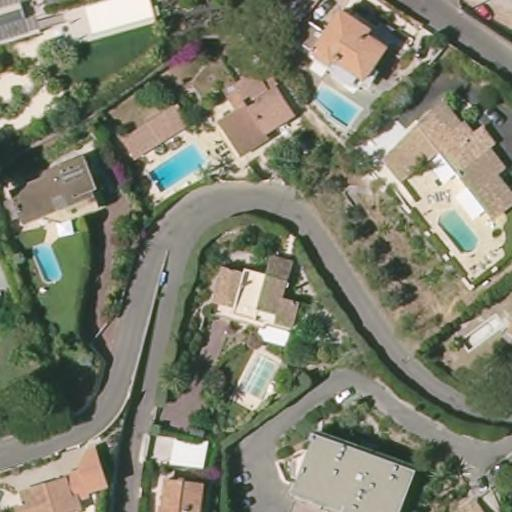pool: (150, 147, 209, 190), (311, 84, 361, 128), (240, 352, 282, 402), (434, 207, 478, 254), (31, 243, 63, 285)
